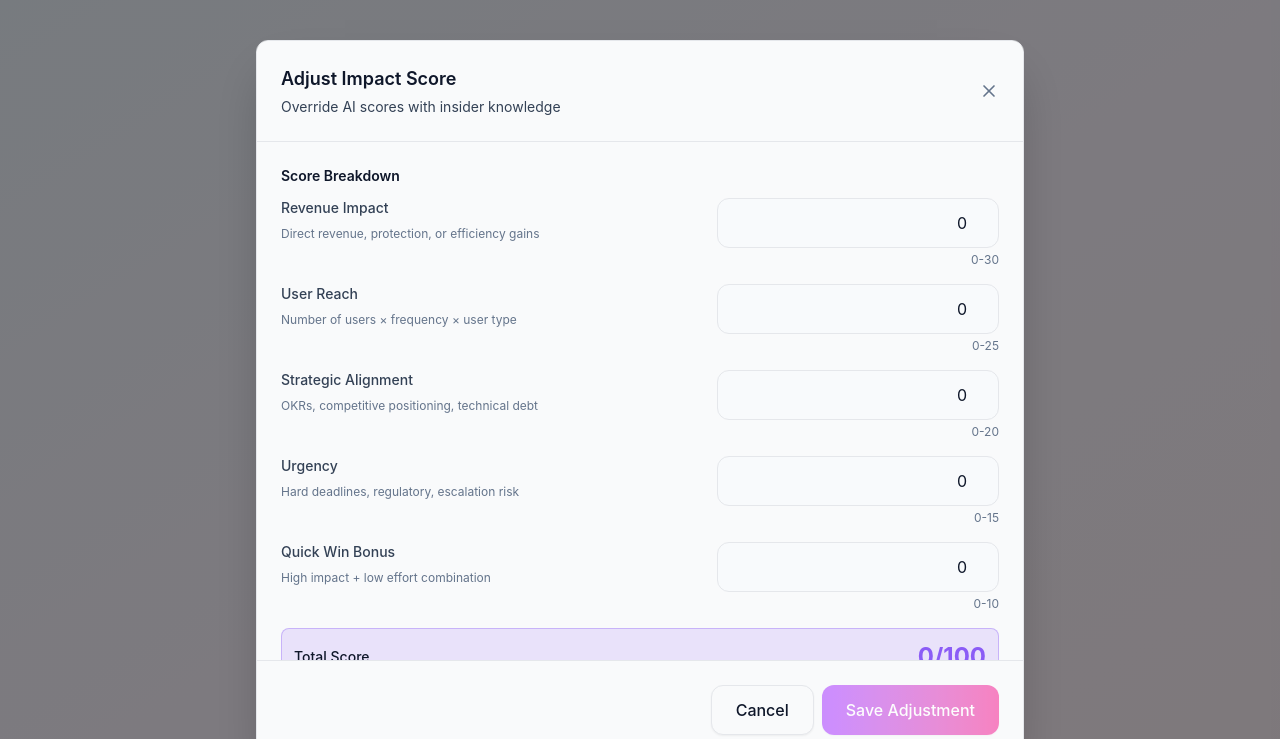
ImpactAdjustmentModal › Validation › should enable submit button when justification is provided and score > 0
The image size is (1280, 739).
# Add score
Replace the text in the number field in the row of "Revenue Impact" with "20" at (858,223), box [717, 198, 999, 248]
(page scrolled)
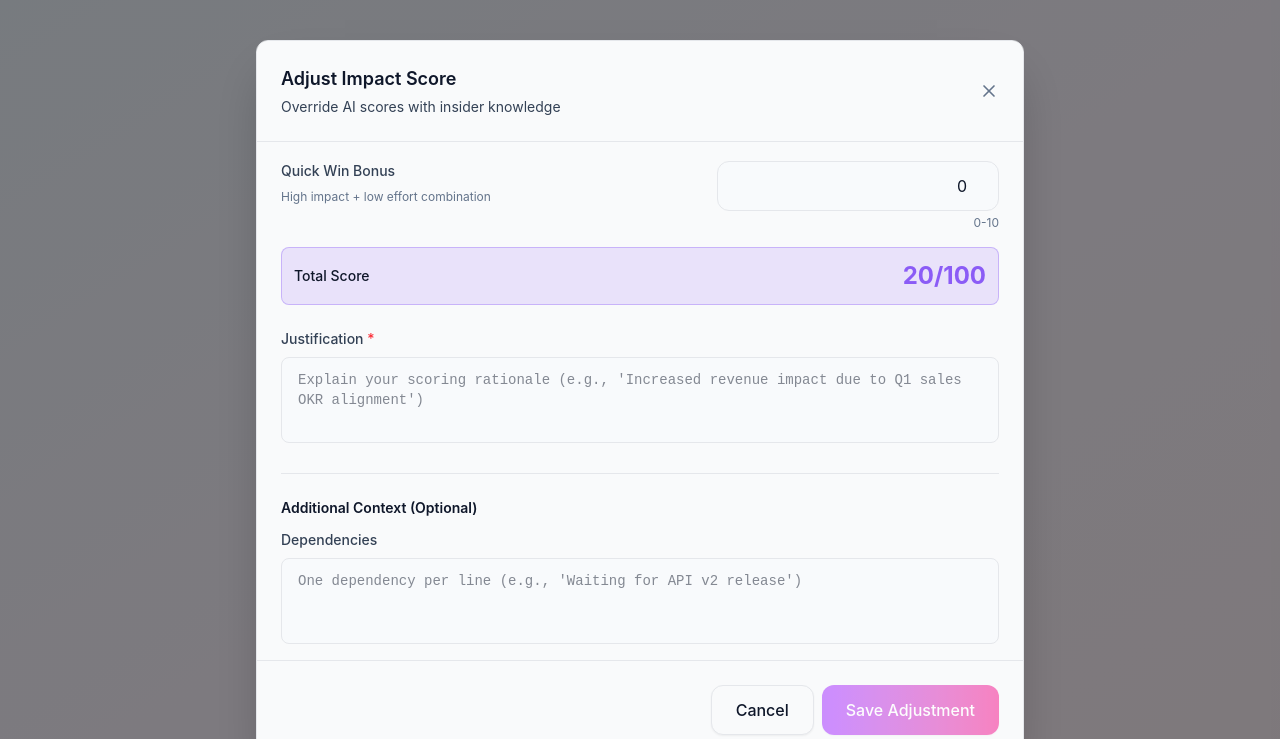
# Add justification
Type "Valid justification" into the text box with placeholder "Explain your scoring rationale".
click(640, 400); type("Valid justification")  # box [281, 357, 999, 443]
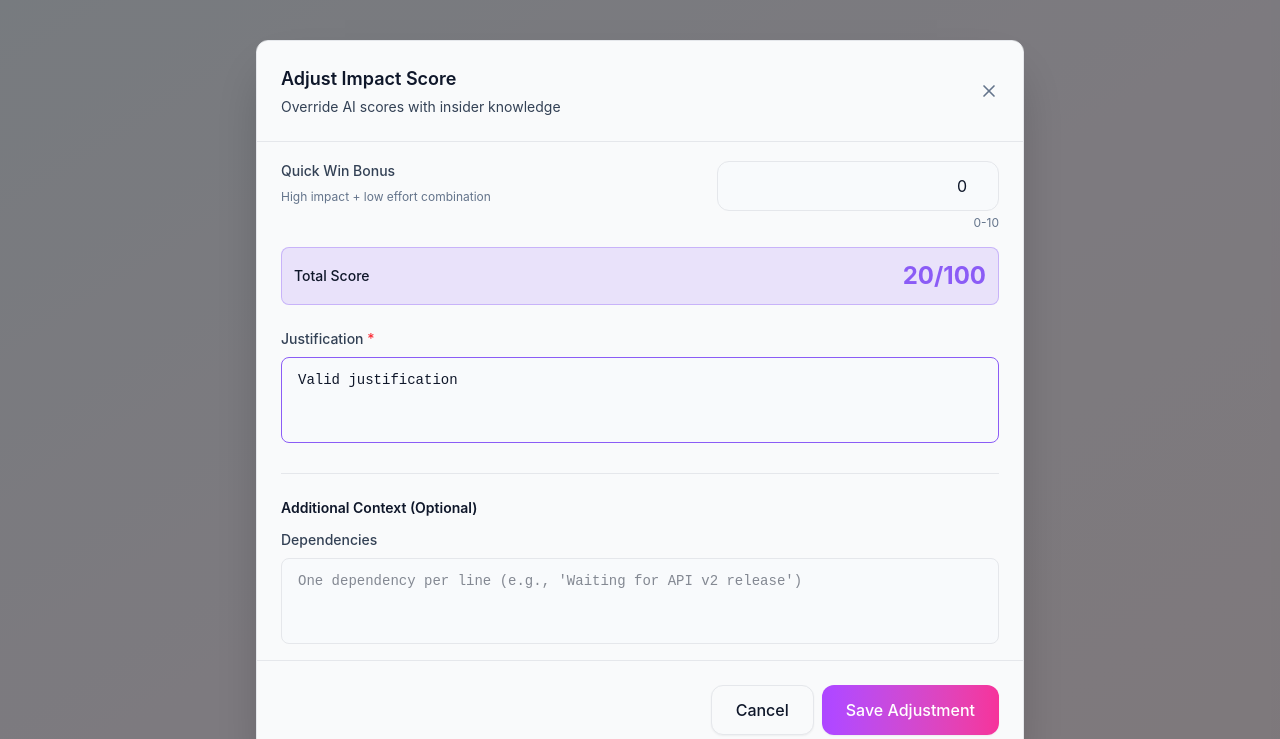
Expected: the button "Save Adjustment" is enabled, [822, 685, 999, 735]
